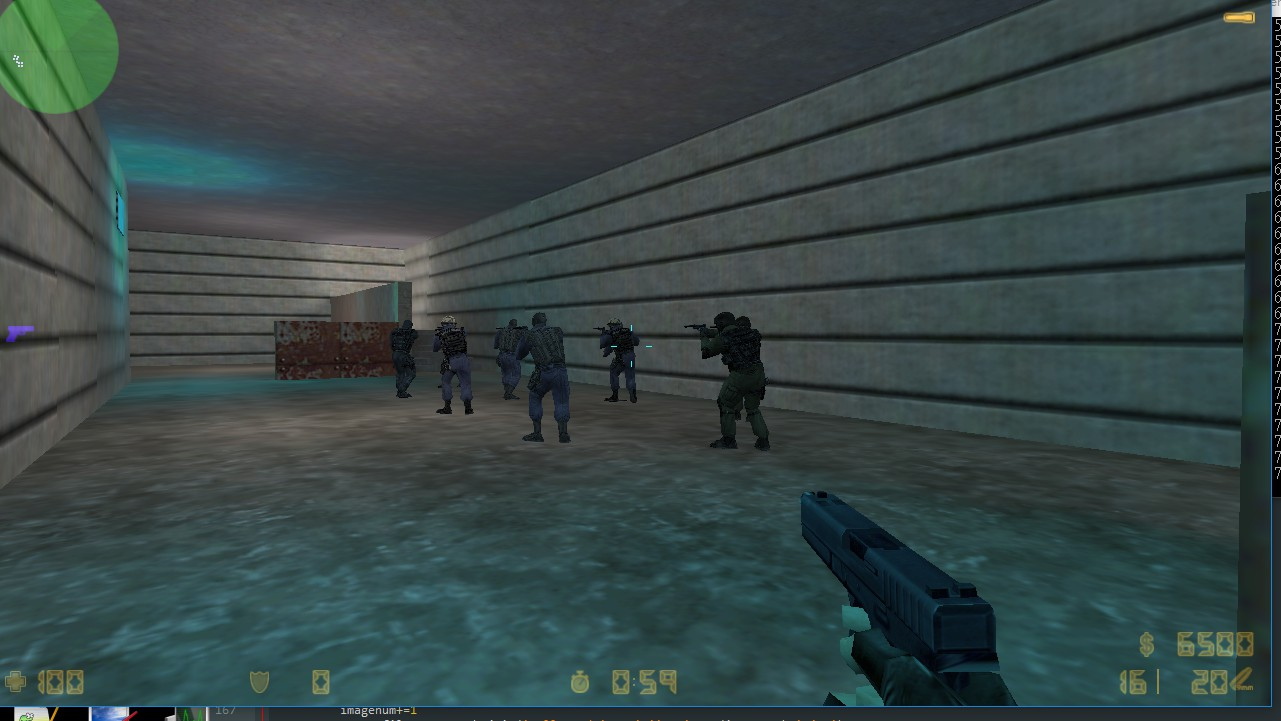person: (693, 312, 777, 459), (524, 317, 574, 441), (590, 311, 647, 409), (433, 313, 480, 414), (383, 319, 424, 409), (493, 313, 524, 400)
